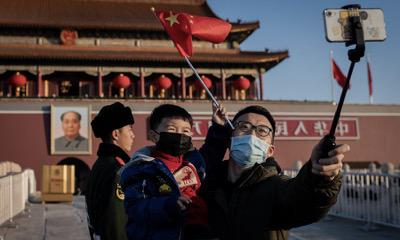with_mask: (229, 118, 271, 167), (157, 123, 192, 155)
without_mask: (119, 125, 134, 151)
